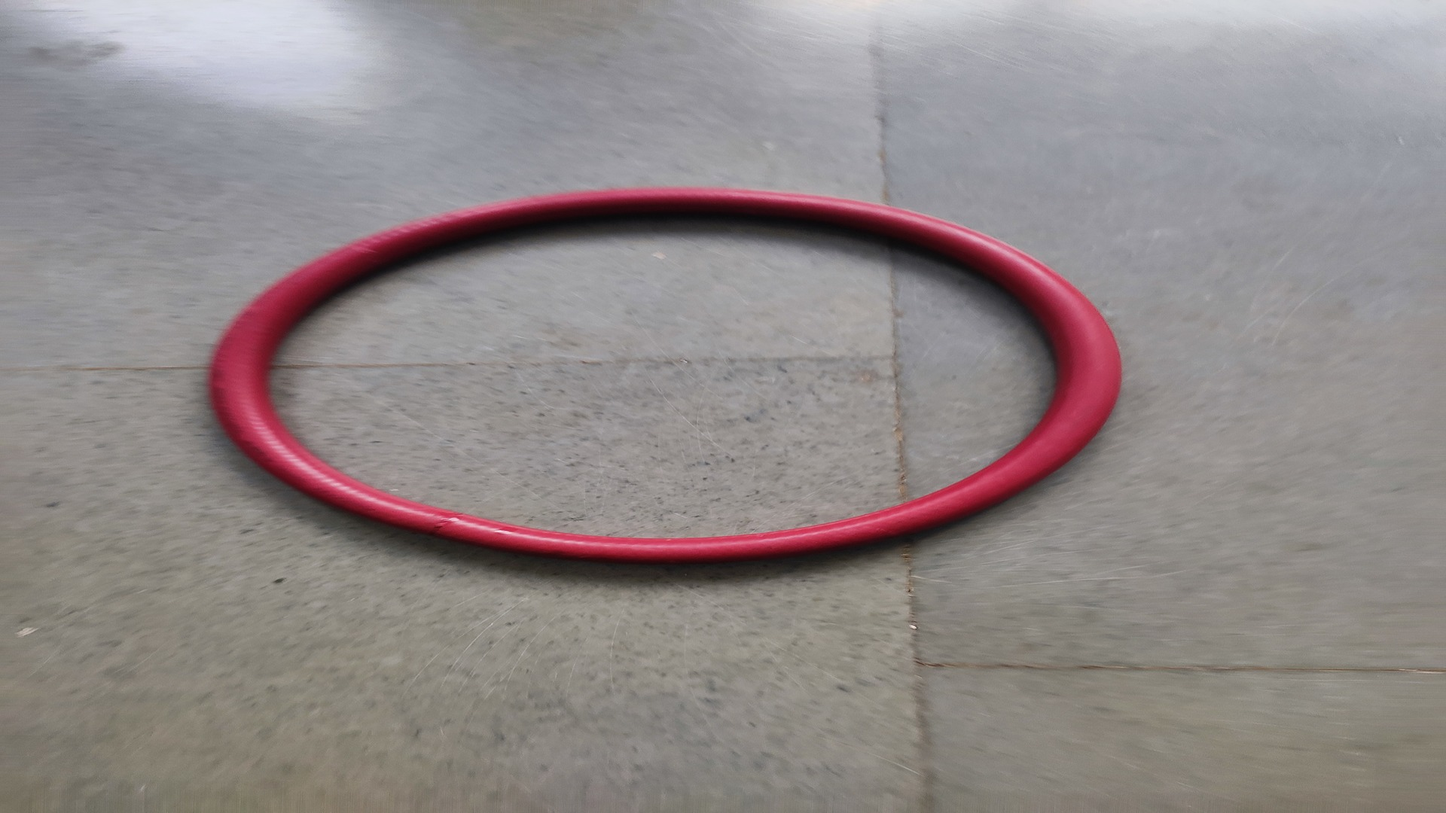Red ring: (205, 190, 1119, 566)
